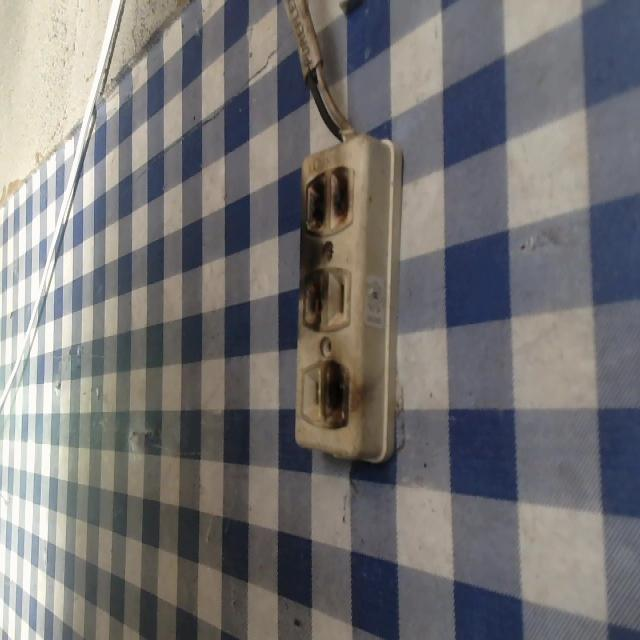-: (299, 164, 363, 235), (318, 349, 358, 440), (298, 261, 332, 335)
